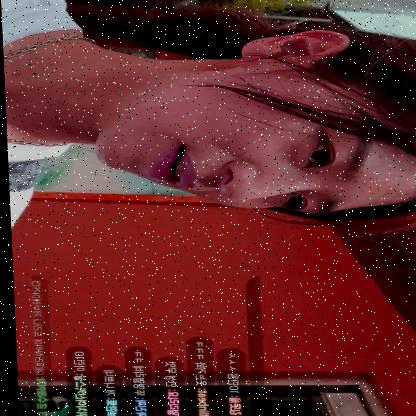streamer: (0, 0, 416, 235)
